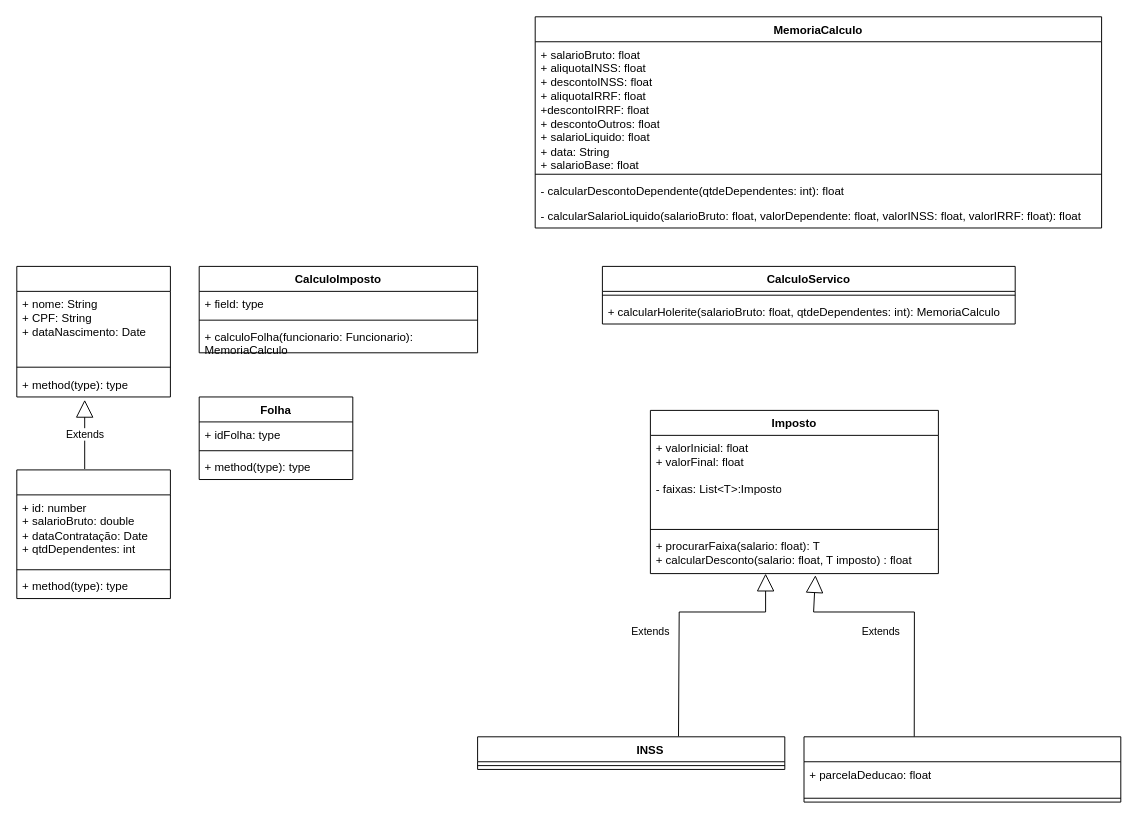
The diagram is 1138 pixels wide and 819 high, and some of its shapes have lost their labels. Each missing label, with the box of its shape:
Funcionário: (16, 469, 170, 599)
IRRF: (803, 736, 1121, 802)
Pessoa: (16, 265, 170, 397)
